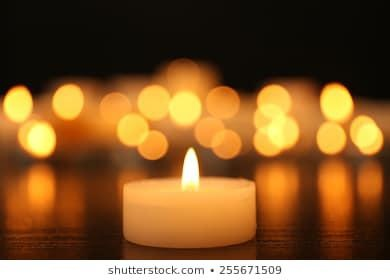fire: (178, 143, 200, 192)
